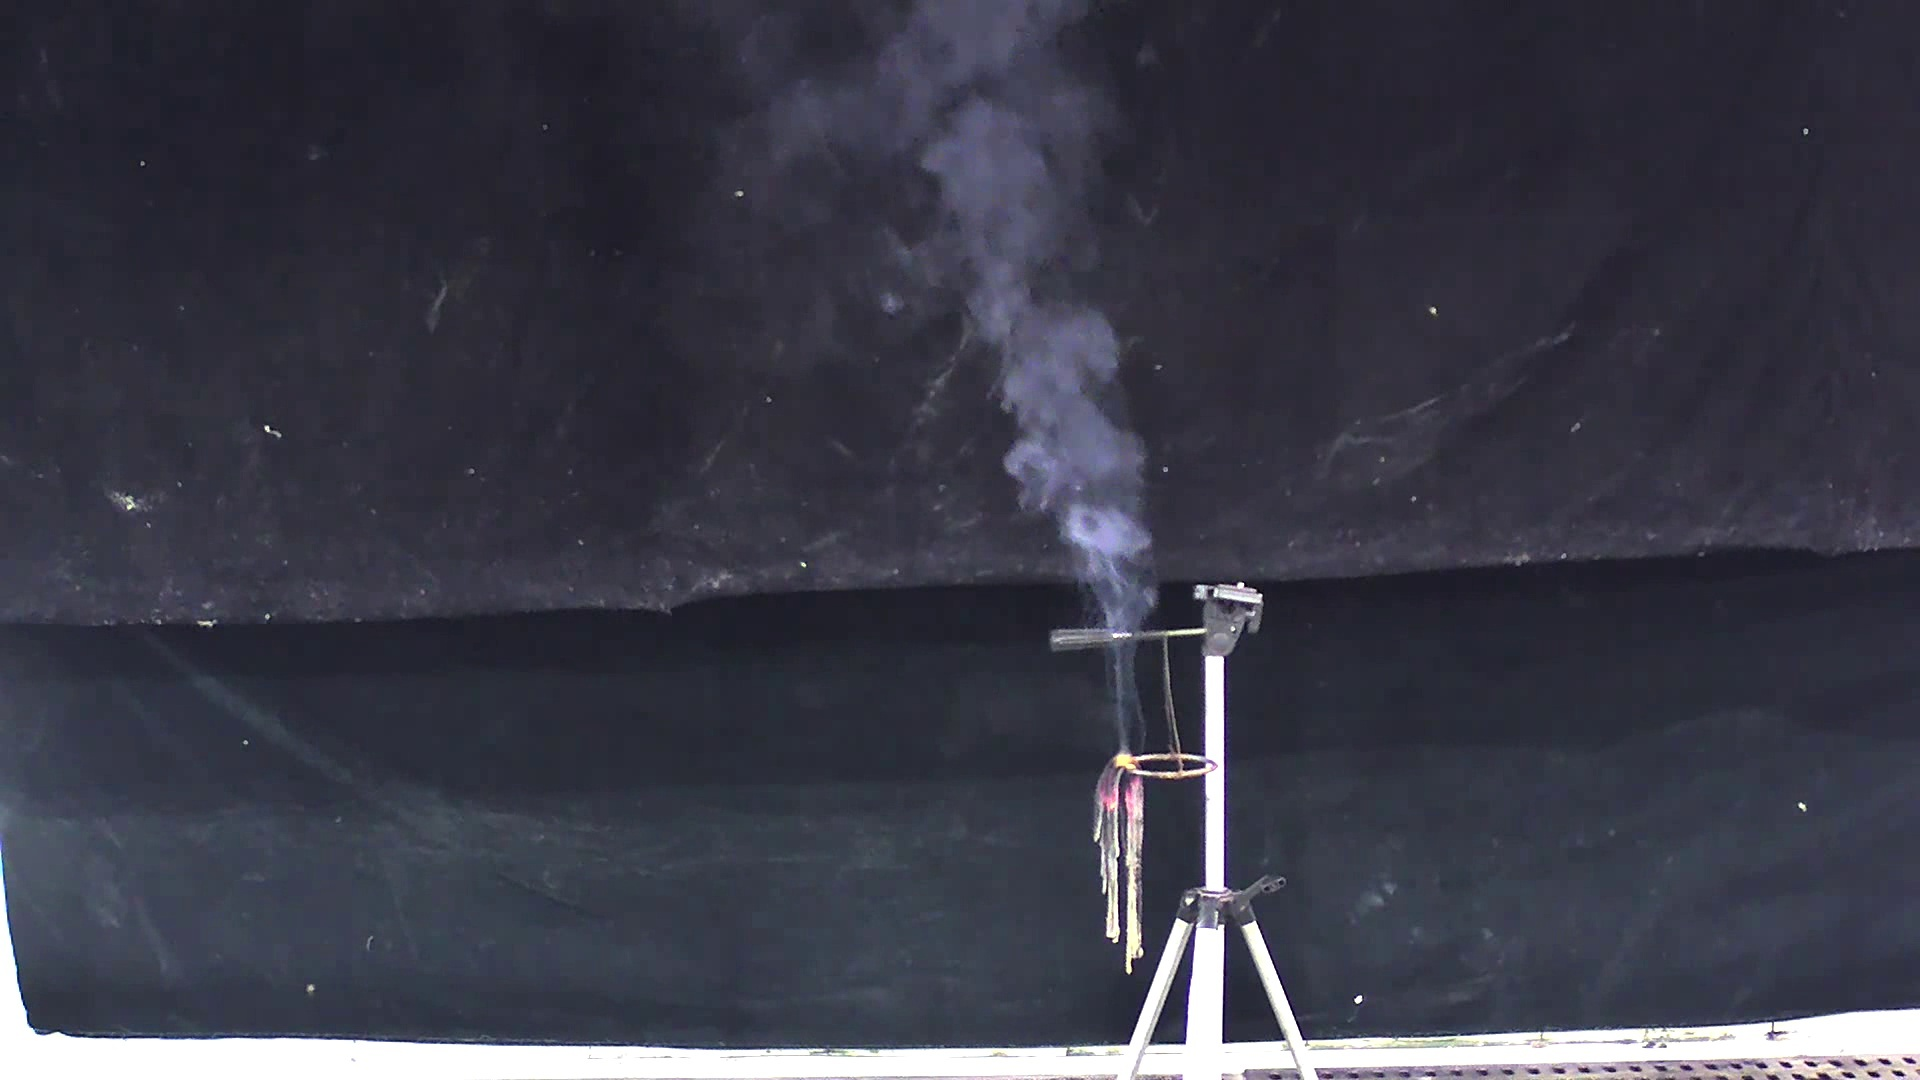smoke: (851, 7, 1163, 757)
